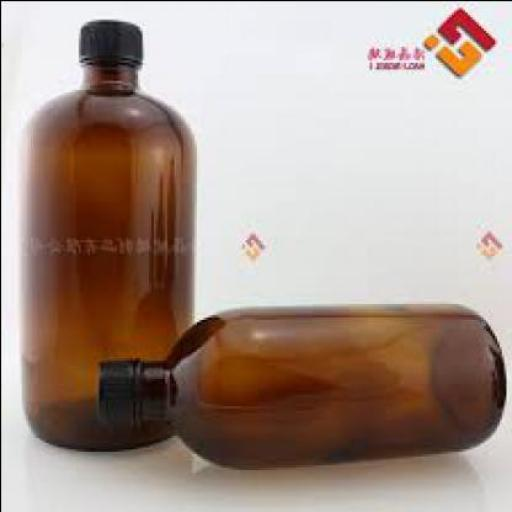glass: (23, 59, 200, 446), (141, 300, 508, 466)
plastic: (97, 352, 139, 423), (82, 16, 148, 59)
